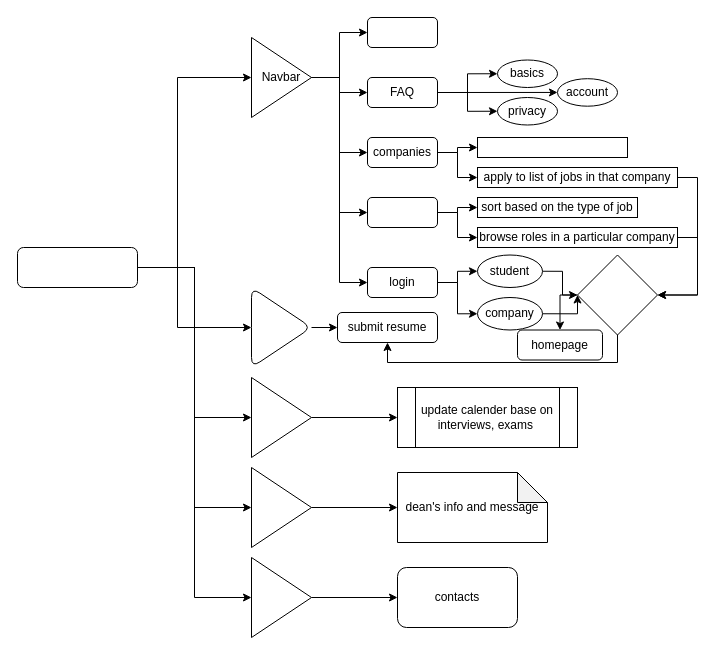
This 723x655 diagram has some shape labels left out. The centre of each missing label's shape, as x and y in pixels:
about: [402,32]
all jobs: [402,212]
dean's....: [281,507]
Events: [281,417]
footer: [281,597]
register/login: [617,294]
Resume: [281,327]
sort based on top package: [552,147]
Website: [77,267]
